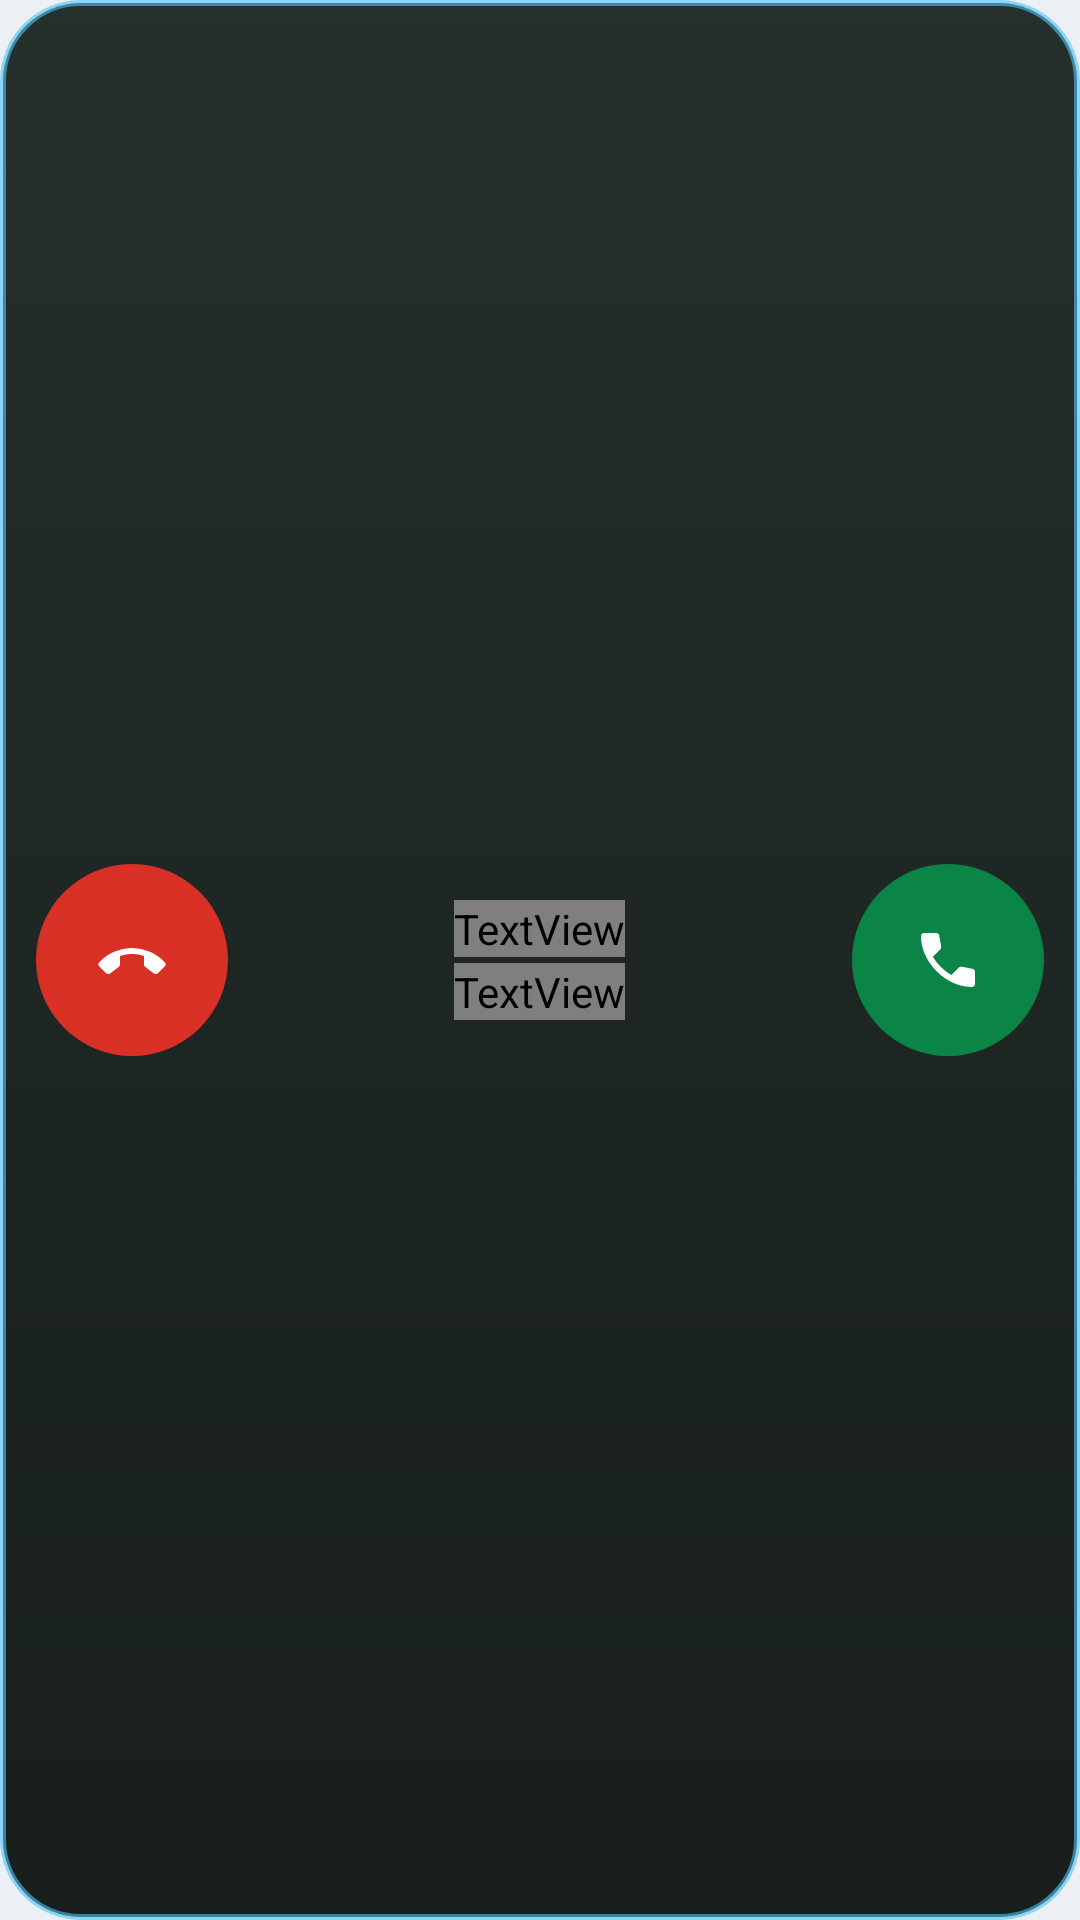

Where icons sit on this 1080 × 1920 app screen, as (x1, y1, x2, y2):
Answer: (852, 864, 1044, 1056)
Decline: (36, 864, 228, 1056)
